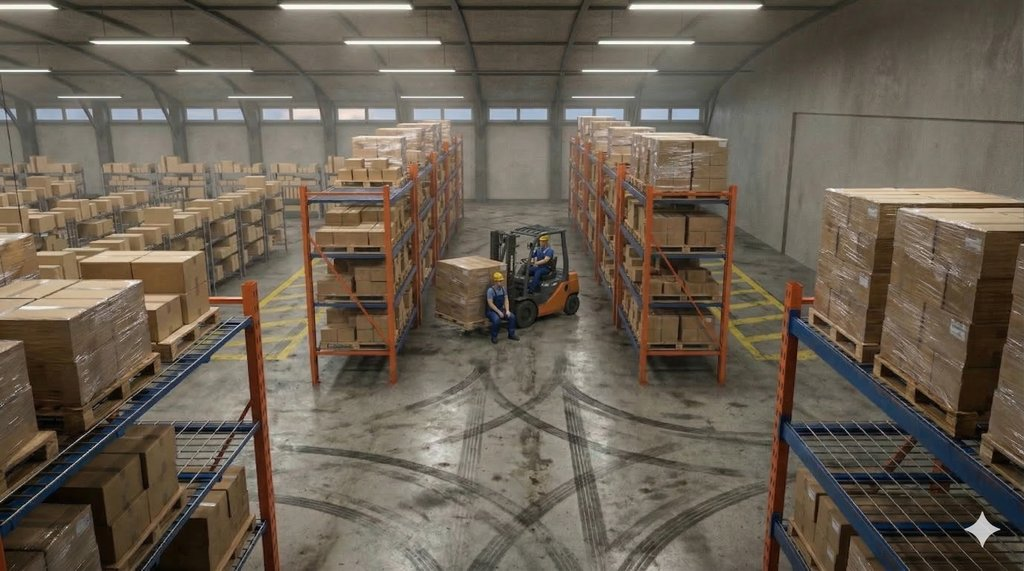empty_shelf: (800, 391, 1020, 567), (143, 395, 256, 493), (303, 164, 394, 196)
forklift: (490, 213, 589, 333)
pallet: (69, 362, 182, 425), (872, 352, 953, 421), (806, 298, 865, 364), (160, 309, 232, 356), (310, 237, 393, 257), (654, 186, 726, 203), (642, 242, 727, 255)
person: (477, 270, 531, 346), (531, 230, 566, 294)
safety_helmet: (488, 270, 506, 288), (538, 233, 558, 248)
